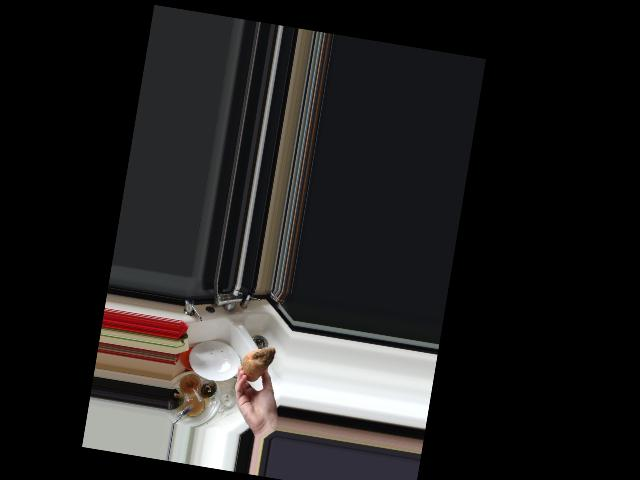sweet_potato: (238, 342, 279, 385)
